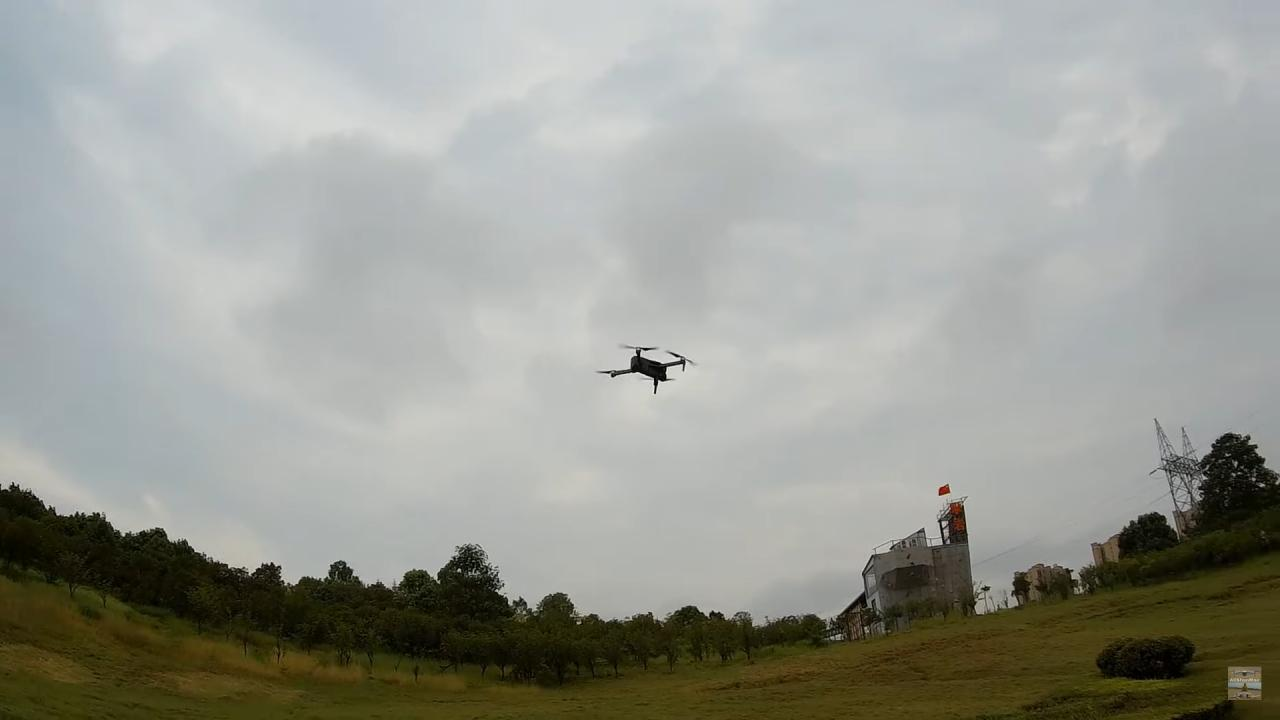Drone: (590, 335, 706, 404)
